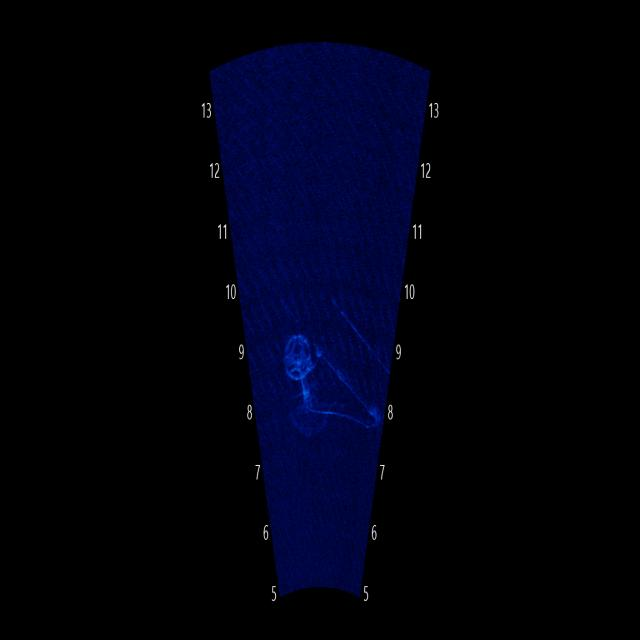circle: (274, 298, 335, 390)
